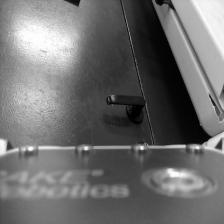Door Handle: (106, 92, 147, 124)
